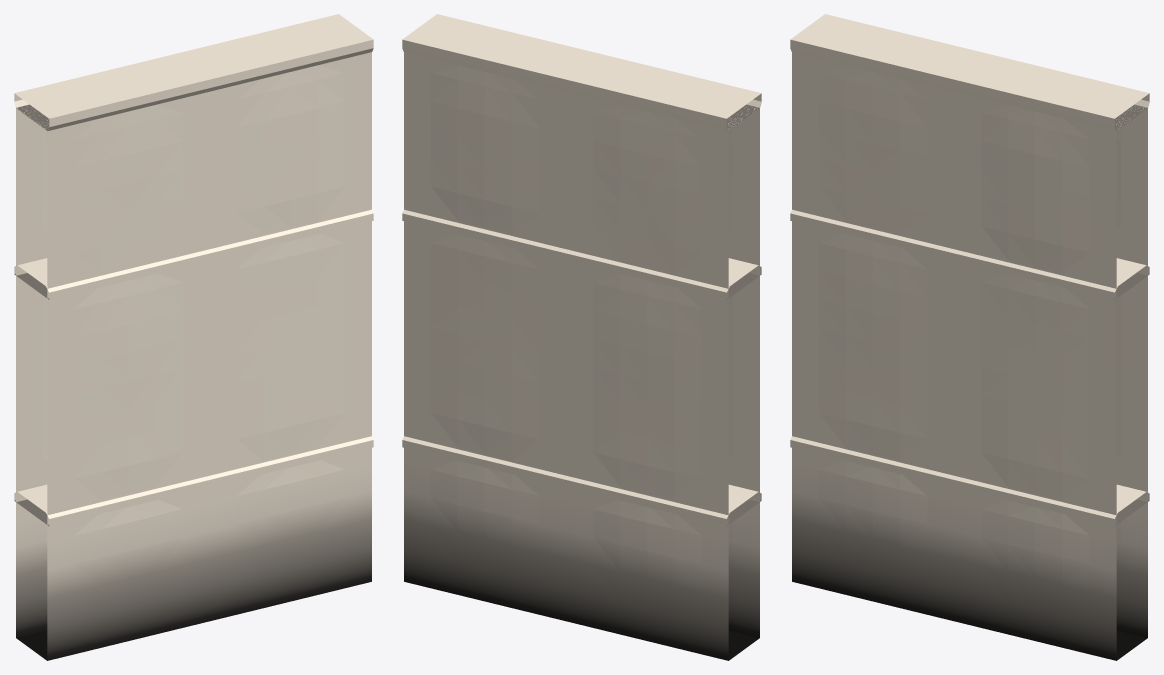
The model's file is SM_VKI_Wall_Ashlar_Plain_300_Full.fbx.
3 renders of one model, left to right at view 1: azimuth 30°, elevation 25°; view 2: azimuth 150°, elevation 25°; view 3: azimuth 330°, elevation 25°, orthographic.
Visible parts, largest first — view 1: SM_VKI_Wall_Ashlar_Plain_300_Full.001; view 2: SM_VKI_Wall_Ashlar_Plain_300_Full.001; view 3: SM_VKI_Wall_Ashlar_Plain_300_Full.001.
Part boxes in pixels (<box>): SM_VKI_Wall_Ashlar_Plain_300_Full.001: <box>14,14,373,660</box>; SM_VKI_Wall_Ashlar_Plain_300_Full.001: <box>402,14,761,660</box>; SM_VKI_Wall_Ashlar_Plain_300_Full.001: <box>790,14,1149,660</box>.
Bounding box in the file's own units: 3 × 4.8 × 0.56.
